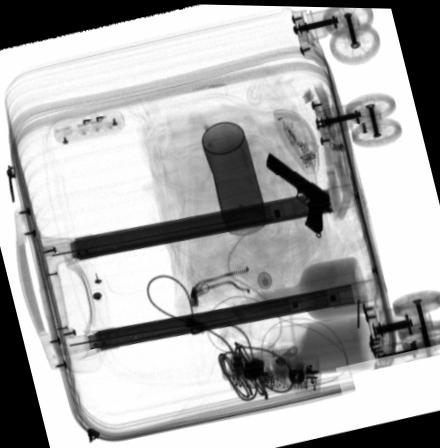Gun: (264, 149, 332, 235)
